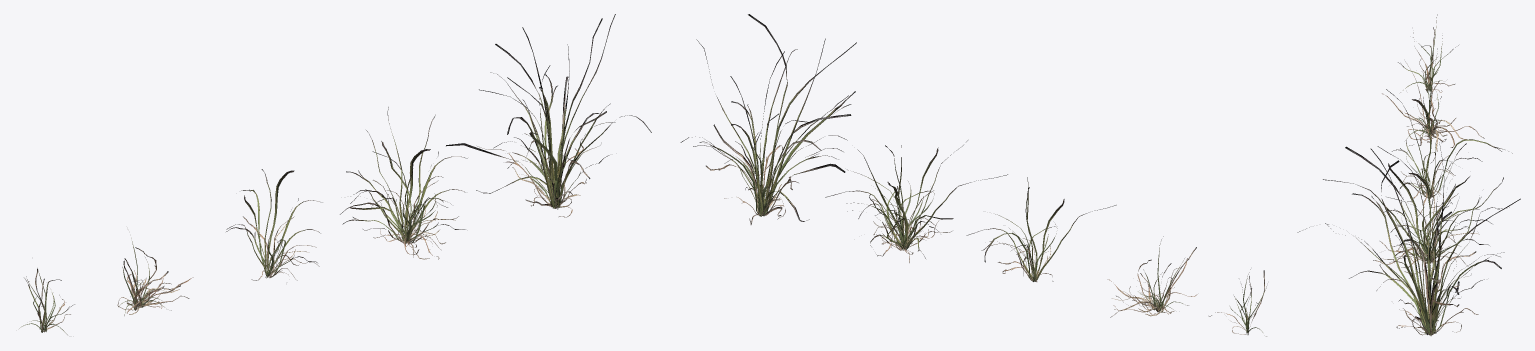
Rendered from grass_medium_02.glb.
3 renders of one model, left to right at view 1: azimuth 30°, elevation 25°; view 2: azimuth 150°, elevation 25°; view 3: azimuth 270°, elevation 25°, orthographic. The views are drawn at different scales.
Visible parts, largest first — view 1: grass_medium_02_a; view 2: grass_medium_02_a; view 3: grass_medium_02_a.
Boxes of the visible parts, x1=… form: grass_medium_02_a: x1=19, y1=14, x2=651, y2=334; grass_medium_02_a: x1=680, y1=14, x2=1266, y2=336; grass_medium_02_a: x1=1297, y1=14, x2=1520, y2=335.
Bounding box in the file's own units: 1.31 × 0.4053 × 0.4333.
Materials: 1 (1 with a texture image).
